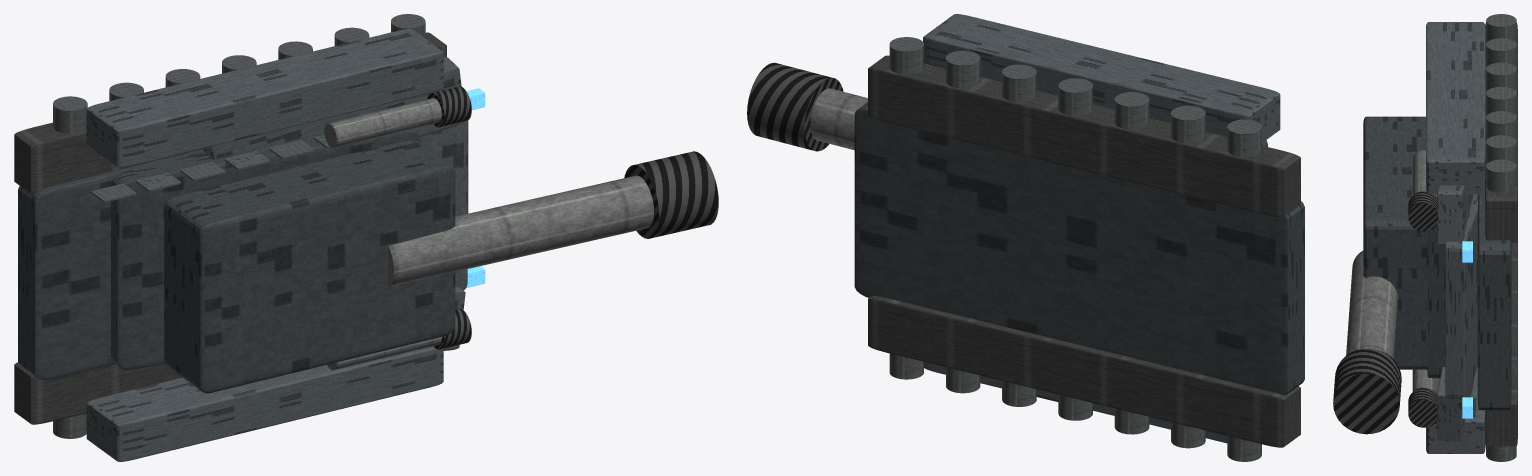
The model's file is s-u20-specter-super-heavy-lod0.glb.
3 views of the same model, side by side, from view 1: azimuth 30°, elevation 25°; view 2: azimuth 150°, elevation 25°; view 3: azimuth 270°, elevation 25° (orthographic). The views are drawn at different scales.
Visible parts, largest first — view 1: superheavy_turret, armor_belt_1, armor_belt_-1, chassis_lower, stealth_upper_hull, superheavy_main_barrel_0, chassis_track_-1, superheavy_main_muzzle_0, chassis_track_1, stealth_cheek_1, sponson_1_barrel_0, chassis_glacis (+5 smaller); view 2: chassis_lower, chassis_track_1, chassis_track_-1, armor_belt_1, superheavy_main_muzzle_0, superheavy_main_barrel_0, chassis_roadwheel_1_2, chassis_roadwheel_1_1, chassis_roadwheel_1_5, chassis_roadwheel_1_6, chassis_roadwheel_1_3, chassis_roadwheel_1_0 (+9 smaller); view 3: superheavy_turret, armor_belt_1, chassis_lower, chassis_glacis, superheavy_main_muzzle_0, superheavy_main_barrel_0, stealth_upper_hull, chassis_track_-1, chassis_track_1, armor_belt_-1, stealth_cheek_1, stealth_cheek_-1 (+14 smaller).
Part boxes in pixels (<box>): superheavy_turret: <box>164,140,455,393</box>; armor_belt_1: <box>86,29,443,167</box>; armor_belt_-1: <box>86,346,443,461</box>; chassis_lower: <box>18,120,468,379</box>; stealth_upper_hull: <box>111,128,420,369</box>; superheavy_main_barrel_0: <box>388,175,653,286</box>; chassis_track_-1: <box>14,362,182,424</box>; superheavy_main_muzzle_0: <box>624,151,718,238</box>; chassis_track_1: <box>14,32,446,194</box>; stealth_cheek_1: <box>202,57,464,159</box>; sponson_1_barrel_0: <box>324,98,441,147</box>; chassis_glacis: <box>420,120,467,290</box>; chassis_lower: <box>854,102,1304,395</box>; chassis_track_1: <box>868,55,1300,217</box>; chassis_track_-1: <box>868,296,1300,447</box>; armor_belt_1: <box>923,14,1280,142</box>; superheavy_main_muzzle_0: <box>747,62,843,151</box>; superheavy_main_barrel_0: <box>810,88,867,150</box>; chassis_roadwheel_1_2: <box>1114,92,1149,129</box>; chassis_roadwheel_1_1: <box>1171,105,1205,143</box>; chassis_roadwheel_1_5: <box>946,50,980,88</box>; chassis_roadwheel_1_6: <box>889,37,923,74</box>; chassis_roadwheel_1_3: <box>1058,78,1092,115</box>; chassis_roadwheel_1_0: <box>1227,119,1261,156</box>; superheavy_turret: <box>1363,116,1427,369</box>; armor_belt_1: <box>1426,22,1485,194</box>; chassis_lower: <box>1477,192,1511,410</box>; chassis_glacis: <box>1445,194,1477,400</box>; superheavy_main_muzzle_0: <box>1333,348,1401,434</box>; superheavy_main_barrel_0: <box>1346,250,1397,358</box>; stealth_upper_hull: <box>1427,225,1445,378</box>; chassis_track_-1: <box>1485,236,1517,446</box>; chassis_track_1: <box>1485,23,1517,242</box>; armor_belt_-1: <box>1426,367,1485,453</box>; stealth_cheek_1: <box>1437,185,1473,244</box>; stealth_cheek_-1: <box>1437,367,1475,441</box>.
Size of what is drawn, in the model's own units: 12.64 by 6.68 by 3.8.
7 materials, 7 textured.
